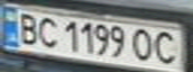1: (60, 18, 81, 52), (75, 20, 96, 54)
9: (90, 20, 112, 56), (109, 24, 130, 60)
B: (12, 10, 42, 45)
C: (151, 28, 184, 65), (33, 15, 60, 48)
O: (127, 26, 160, 62)
